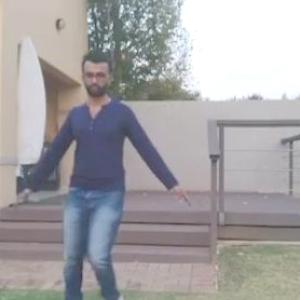land: (32, 67, 180, 299)
